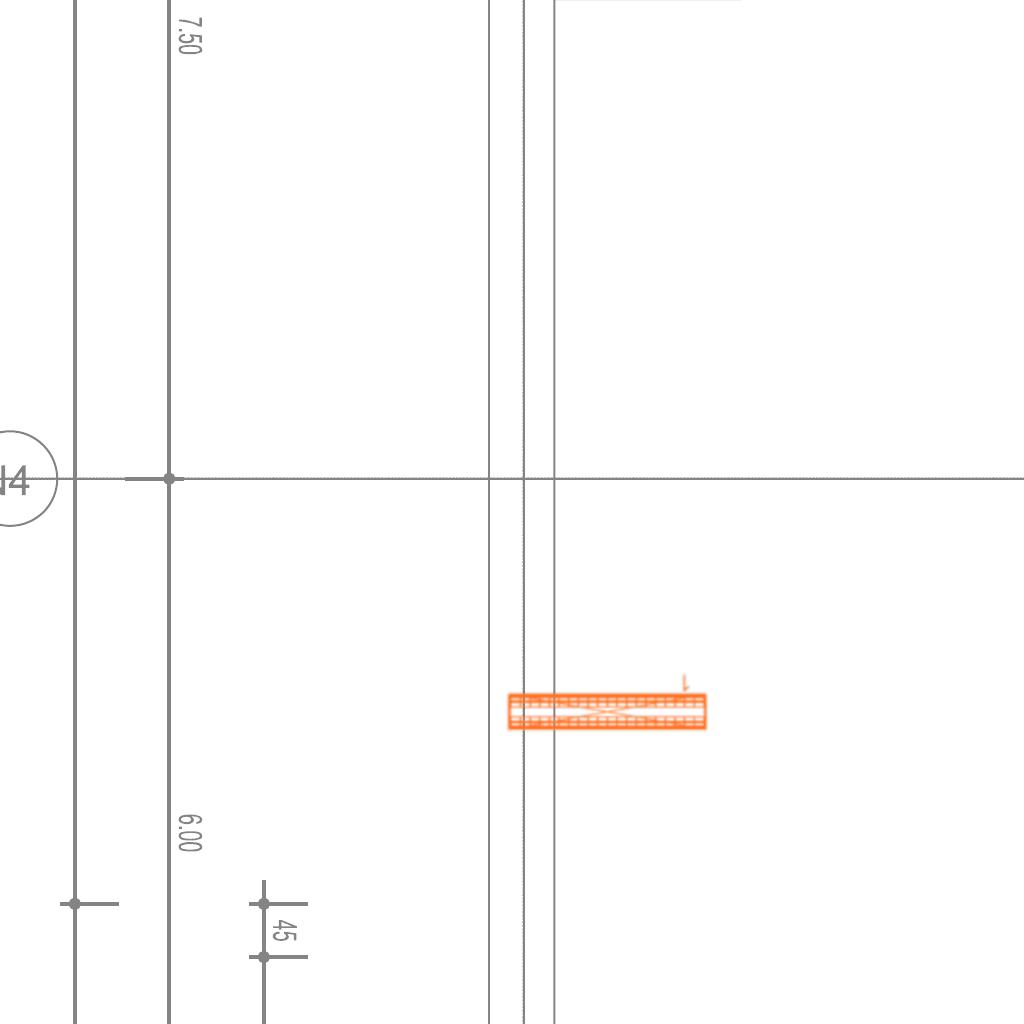Buero_Pendelleuchten_LED: (504, 670, 710, 735)
